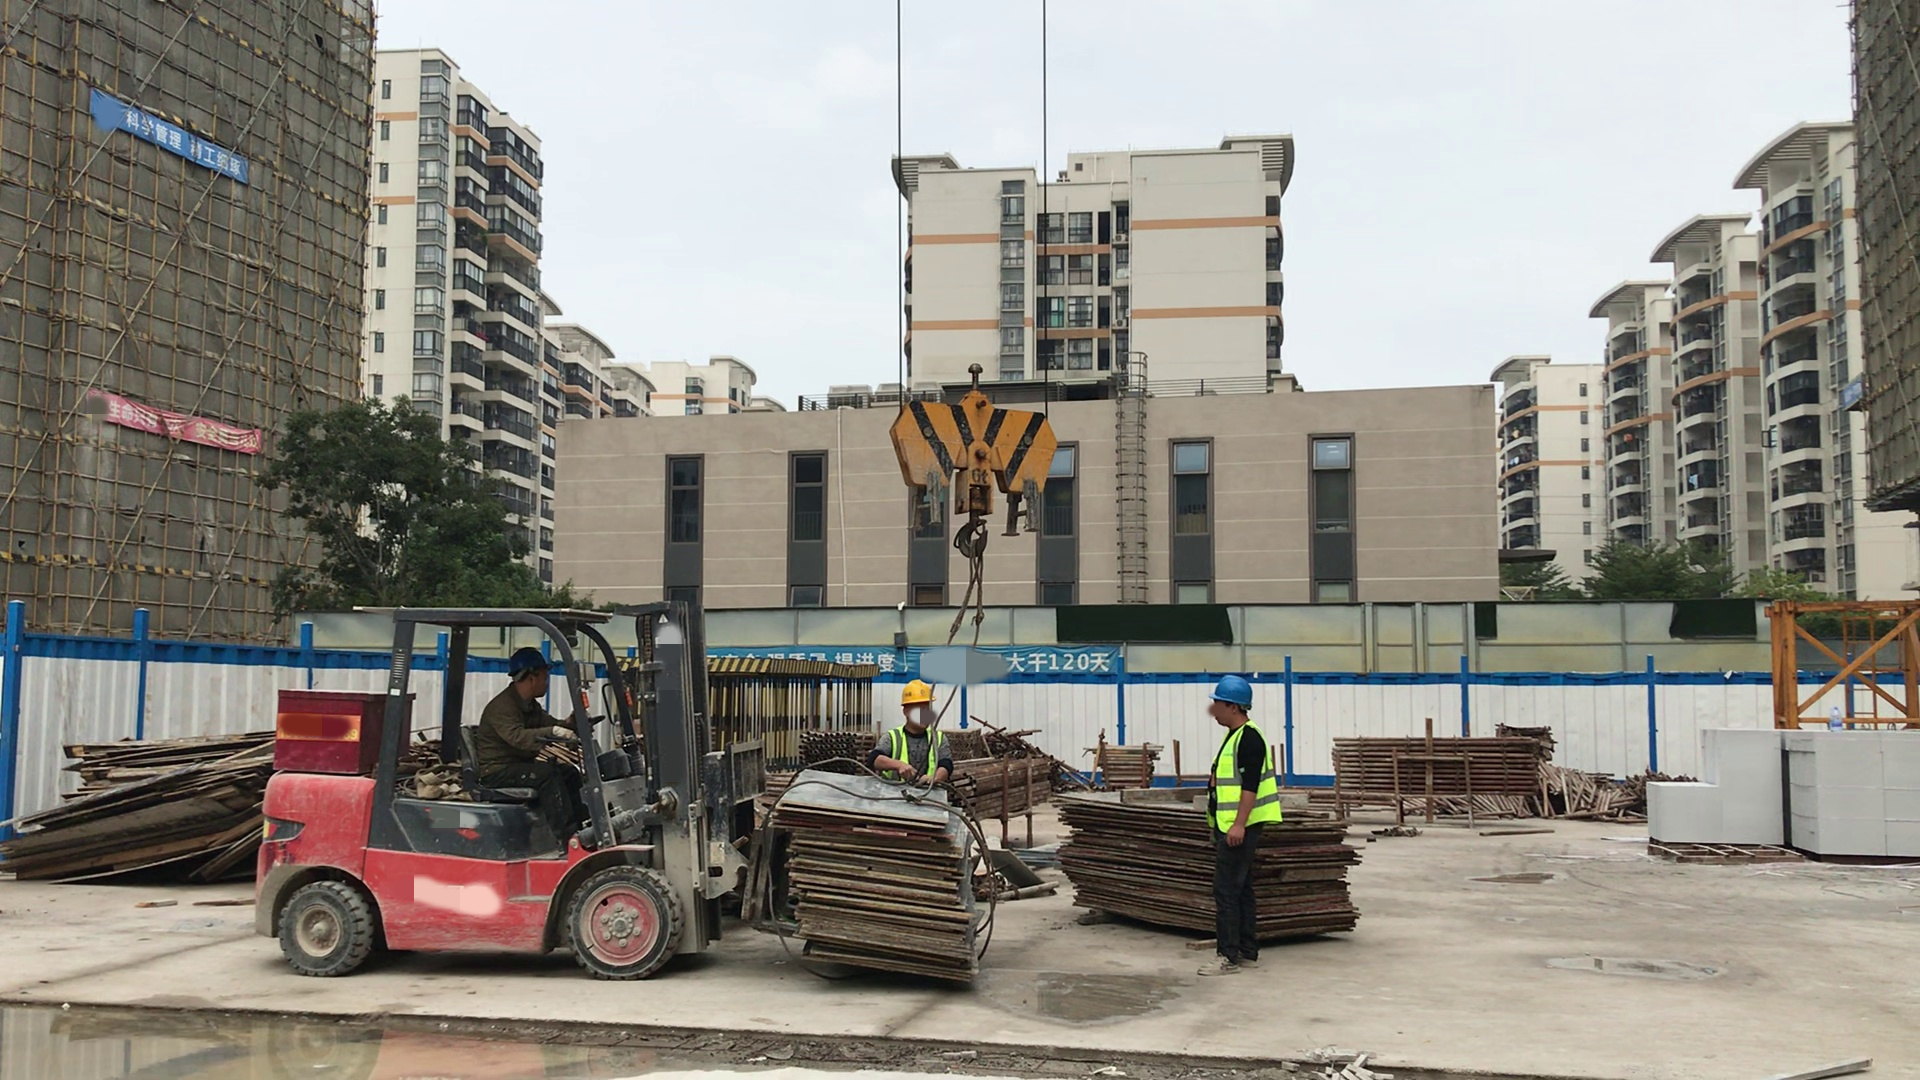board: (778, 764, 993, 998), (18, 728, 258, 889), (1051, 780, 1204, 956), (1263, 804, 1370, 950)
brick: (1636, 727, 1789, 845), (1794, 727, 1920, 863)
fence: (84, 94, 243, 185), (106, 394, 262, 450), (865, 645, 1117, 679)
helmet: (505, 648, 553, 681), (1211, 675, 1254, 710), (900, 677, 935, 710)
hook: (888, 360, 1055, 564)
person: (1190, 674, 1284, 982), (474, 645, 583, 860), (879, 677, 954, 787)
scaffold: (1327, 729, 1544, 802), (1085, 738, 1162, 787)
vest: (1208, 721, 1282, 833), (882, 727, 943, 779)
